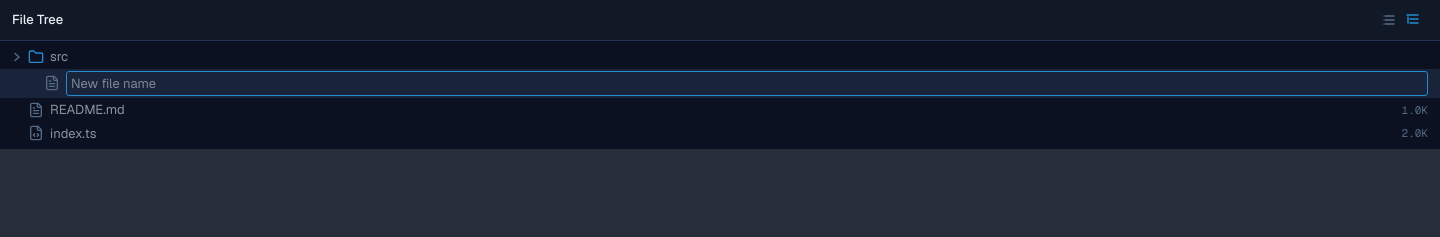
Test case: inline create › Escape unmounts the create row
The width and height of the screenshot is (1440, 237).
Step 1. Right-click the element showing "src" → (40, 56), box left=12, top=48, right=68, bottom=65
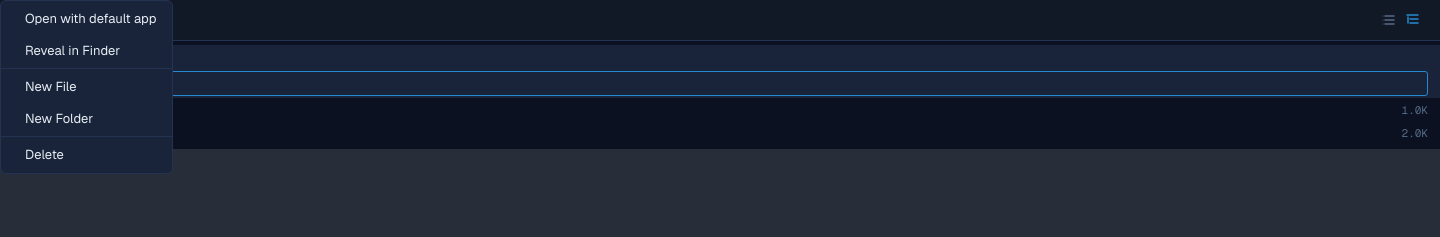
Step 2. Click the menu item "New File" → (51, 86), box left=25, top=78, right=76, bottom=95
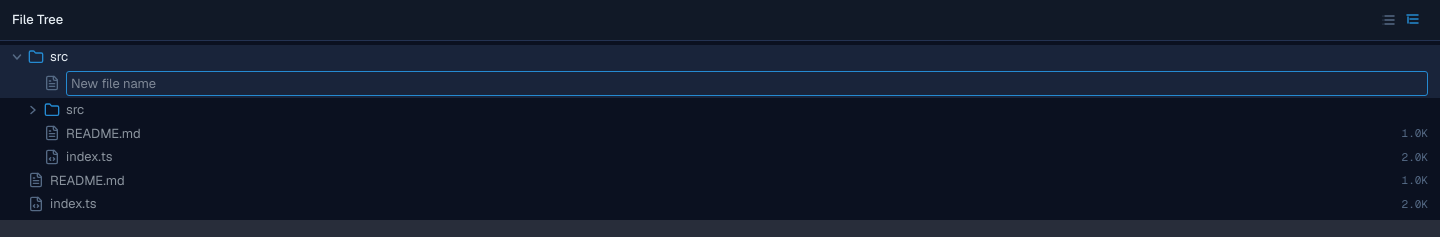
Step 3. Press Escape in the field with placeholder "New file name", box left=66, top=70, right=1428, bottom=96
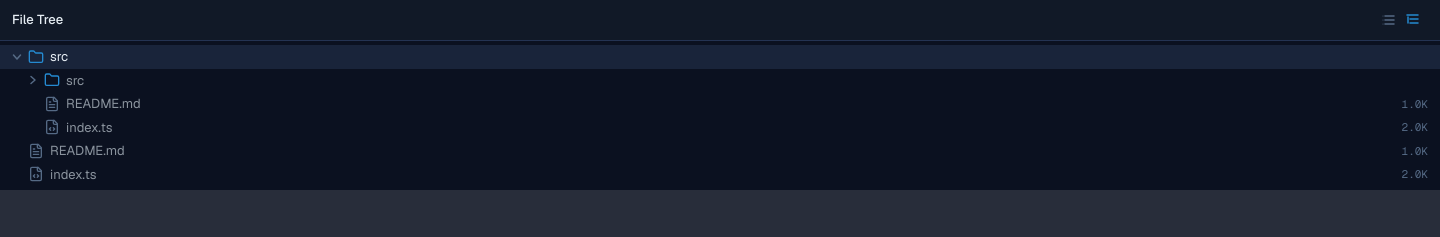
Expected: the field is gone
